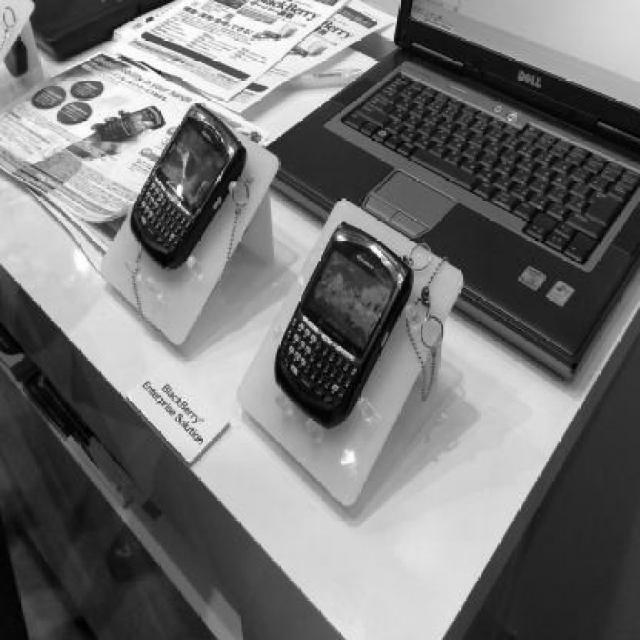fake: (274, 222, 416, 428), (130, 102, 244, 272), (98, 104, 166, 144)
